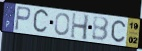B: (91, 17, 110, 43)
C: (31, 8, 50, 35), (110, 19, 127, 44)
H: (69, 12, 91, 42)
O: (54, 12, 71, 37)
P: (14, 5, 32, 33)
